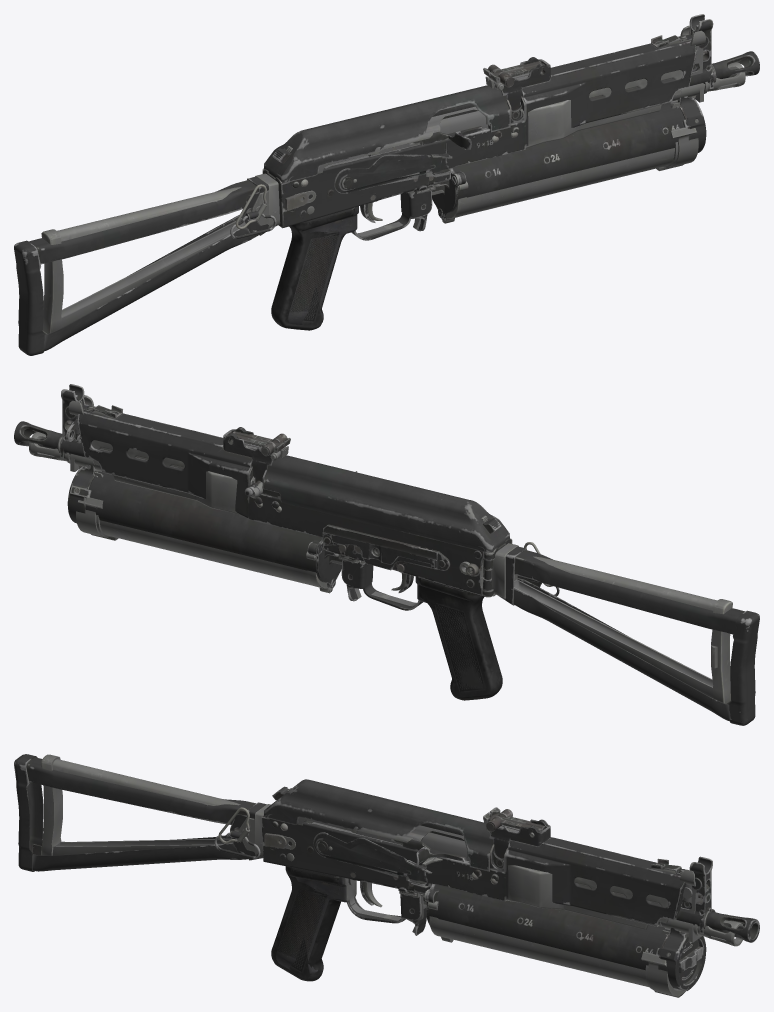
3 views of the same model, one above another, from view 1: azimuth 30°, elevation 25°; view 2: azimuth 150°, elevation 25°; view 3: azimuth 330°, elevation 25° (orthographic).
Parts seen in each view (by area): view 1: weapon_smg_bizon.vmdl_c.body_hd, weapon_smg_bizon.vmdl_c.body_legacy; view 2: weapon_smg_bizon.vmdl_c.body_hd, weapon_smg_bizon.vmdl_c.body_legacy; view 3: weapon_smg_bizon.vmdl_c.body_hd, weapon_smg_bizon.vmdl_c.body_legacy.
Part boxes in pixels (left/top/right/bottom): weapon_smg_bizon.vmdl_c.body_hd: left=14, top=14, right=759, bottom=355; weapon_smg_bizon.vmdl_c.body_legacy: left=41, top=25, right=745, bottom=334; weapon_smg_bizon.vmdl_c.body_hd: left=14, top=384, right=759, bottom=725; weapon_smg_bizon.vmdl_c.body_legacy: left=29, top=395, right=732, bottom=704; weapon_smg_bizon.vmdl_c.body_hd: left=14, top=754, right=759, bottom=991; weapon_smg_bizon.vmdl_c.body_legacy: left=41, top=754, right=744, bottom=997.
Size of the model in its own units: 31.53 by 8.79 by 3.39.
Materials: 2 (2 with a texture image).
